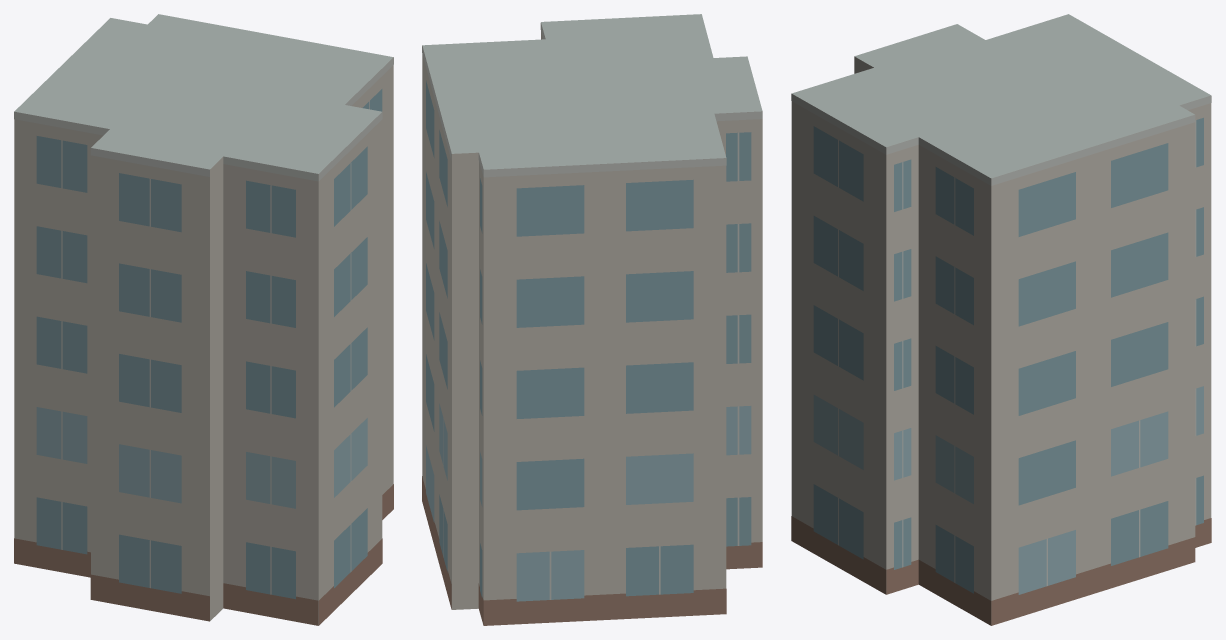
File: residential-64f1dfa7-583a-445b-85c9-1d16978a646c.glb
The picture shows the model from 3 angles, left to right: view 1: azimuth 30°, elevation 25°; view 2: azimuth 150°, elevation 25°; view 3: azimuth 270°, elevation 25°; orthographic projection.
Parts seen in each view (by area): view 1: residential-64f1dfa7-583a-445b-85c9-1d16978a646c.tmp; view 2: residential-64f1dfa7-583a-445b-85c9-1d16978a646c.tmp; view 3: residential-64f1dfa7-583a-445b-85c9-1d16978a646c.tmp.
Part boxes in pixels (bbox=[...]): residential-64f1dfa7-583a-445b-85c9-1d16978a646c.tmp: bbox=[14, 14, 393, 625]; residential-64f1dfa7-583a-445b-85c9-1d16978a646c.tmp: bbox=[422, 14, 762, 625]; residential-64f1dfa7-583a-445b-85c9-1d16978a646c.tmp: bbox=[791, 14, 1211, 625].
Size of the model in its own units: 11.48 by 14.55 by 12.39.
